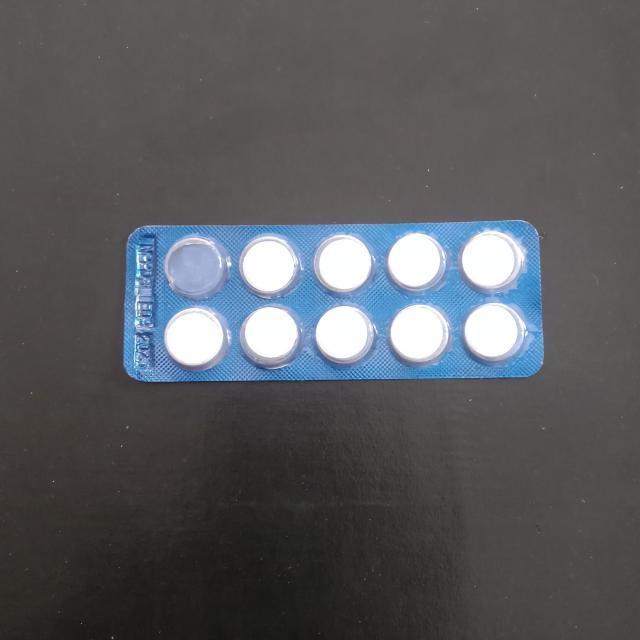defect: (162, 232, 232, 303)
